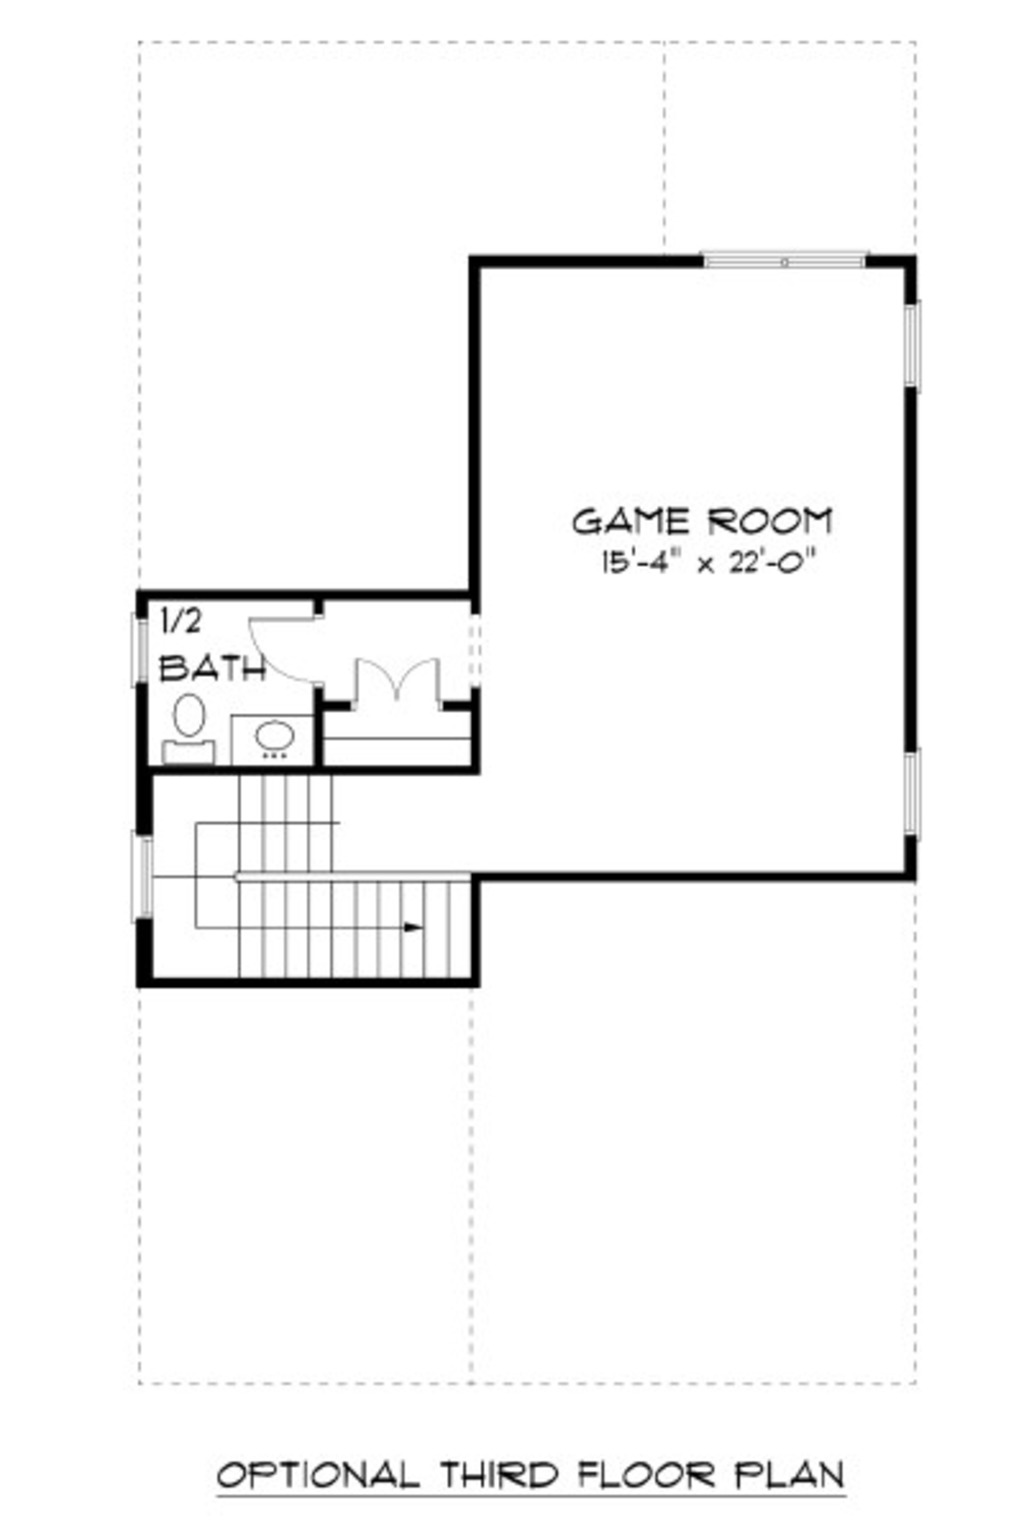door: (241, 613, 339, 689), (353, 658, 453, 717)
large_sink: (162, 689, 219, 770)
small_sink: (229, 712, 311, 770)
stairs: (185, 782, 478, 991)
window: (704, 240, 862, 275), (134, 831, 162, 933), (125, 614, 155, 683), (901, 749, 920, 840), (907, 293, 922, 389)
